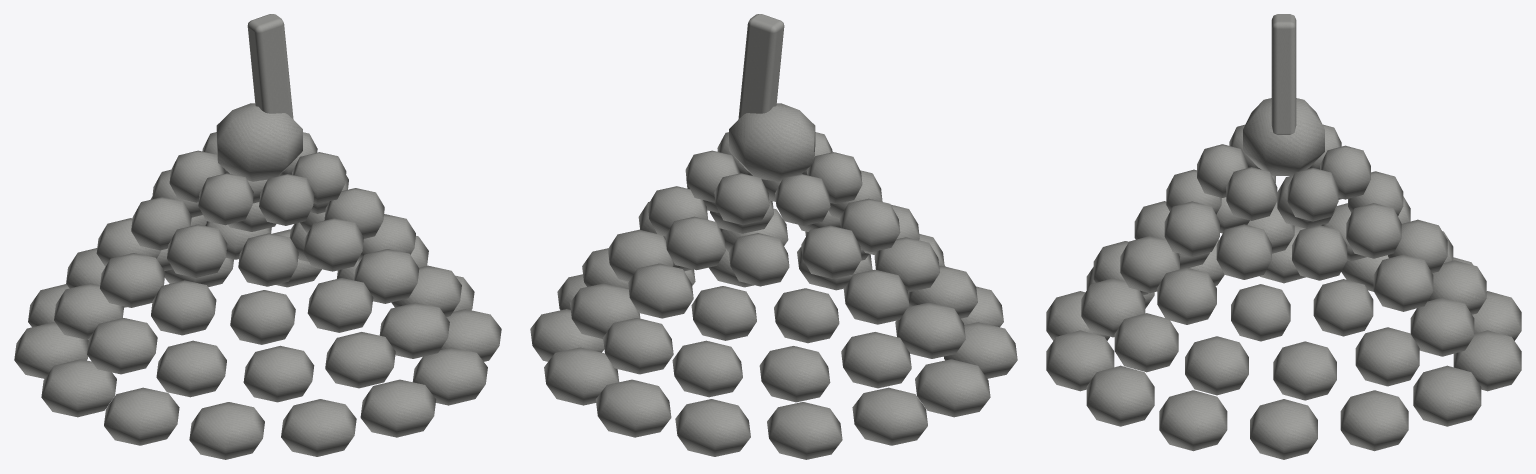
Rendered from viking-age-longhouse-and-longship-stone-cairn-0ecb443e__30186.glb.
3 renders of one model, left to right at view 1: azimuth 30°, elevation 25°; view 2: azimuth 150°, elevation 25°; view 3: azimuth 270°, elevation 25°, orthographic.
Parts seen in each view (by area): view 1: stone-cairn; view 2: stone-cairn; view 3: stone-cairn.
Part boxes in pixels (bbox=[...]): stone-cairn: bbox=[14, 14, 501, 459]; stone-cairn: bbox=[530, 14, 1017, 459]; stone-cairn: bbox=[1046, 14, 1521, 459].
Size of the model in its own units: 2.06 by 1.58 by 1.93.
Materials: 1 (1 with a texture image).
